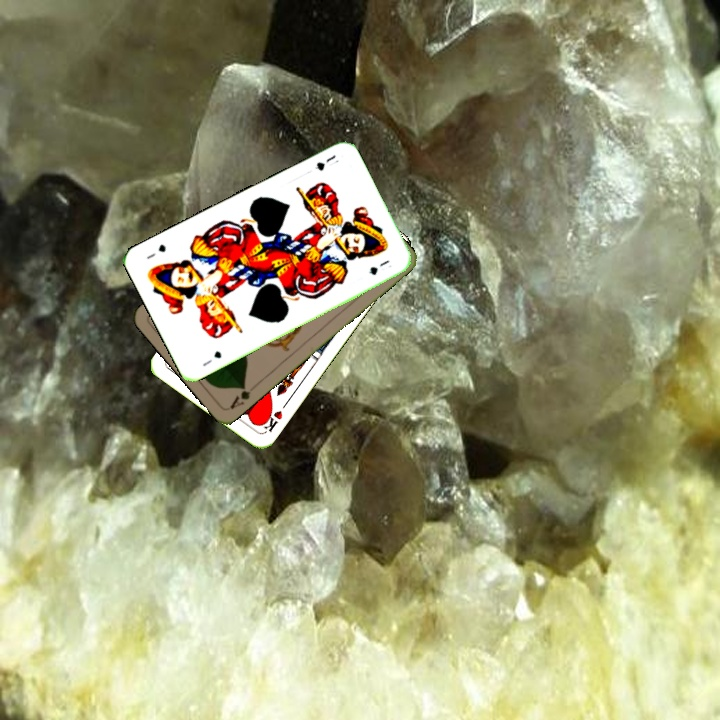GA: (225, 381, 253, 412)
GU: (311, 151, 341, 173), (198, 347, 224, 369)
HK: (257, 405, 285, 435)
